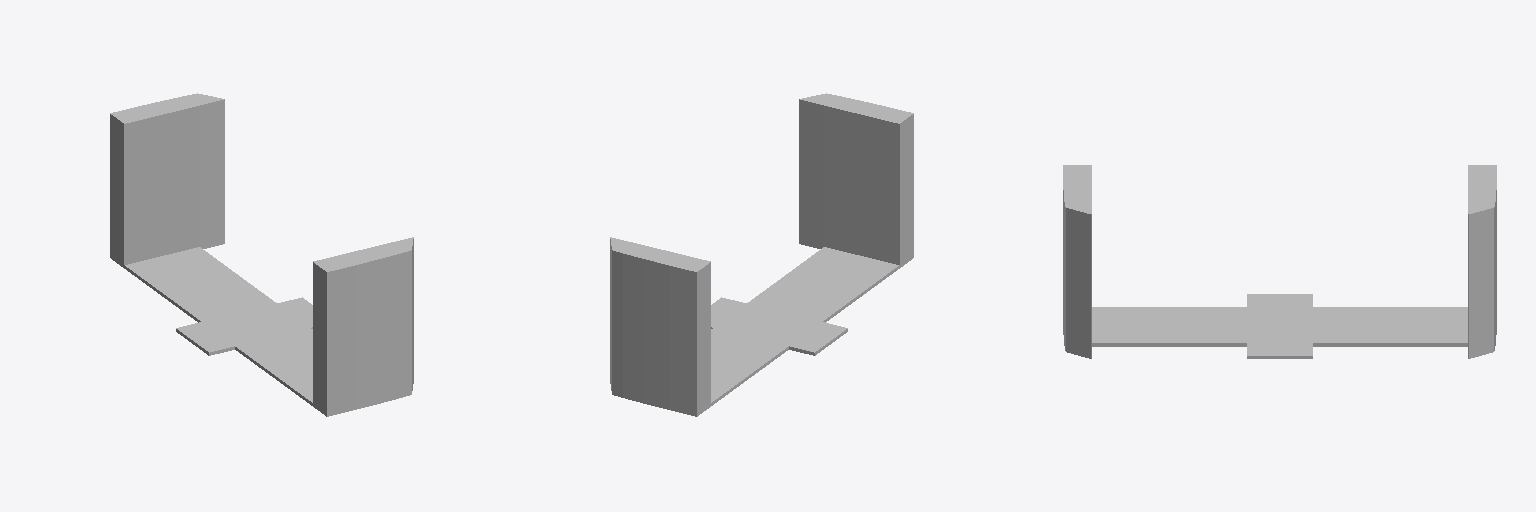
The model's file is Right-Room-Floor-Entrance.obj.
3 views of the same model, side by side, from view 1: azimuth 30°, elevation 25°; view 2: azimuth 150°, elevation 25°; view 3: azimuth 270°, elevation 25° (orthographic).
Parts seen in each view (by area): view 1: Cube; view 2: Cube; view 3: Cube.
Boxes of the visible parts, x1=… form: Cube: x1=110, y1=93, x2=413, y2=416; Cube: x1=610, y1=93, x2=913, y2=416; Cube: x1=1063, y1=165, x2=1496, y2=358.
Size of the model in its own units: 10.1 by 10.99 by 29.92.